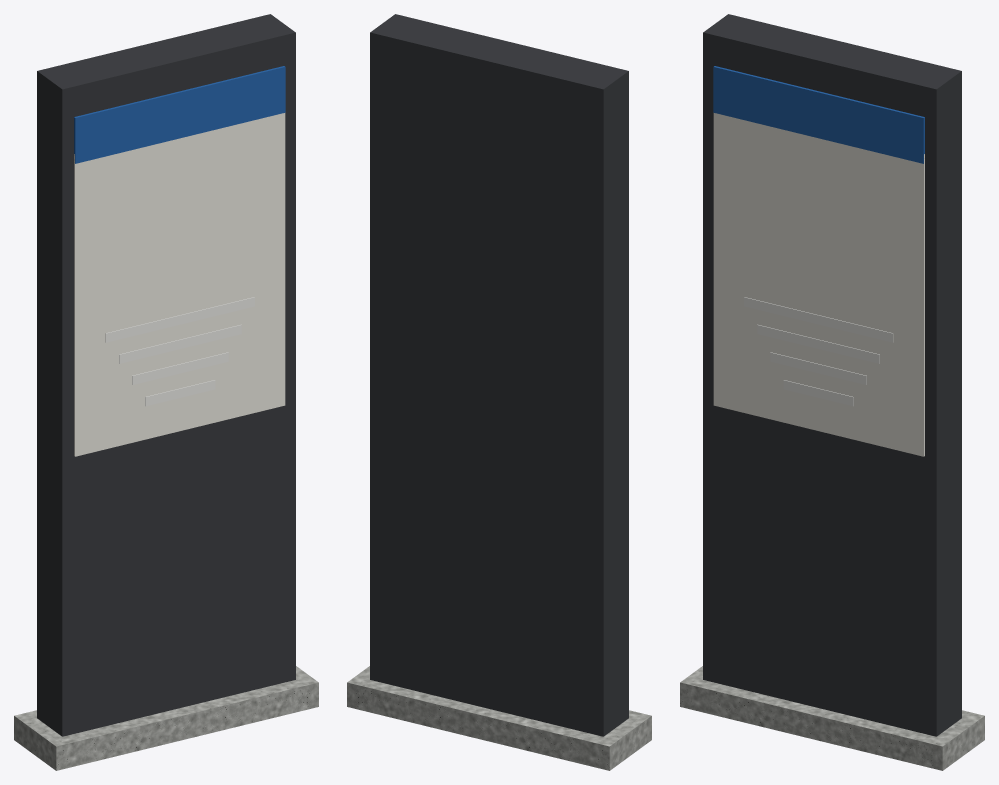
3 renders of one model, left to right at view 1: azimuth 30°, elevation 25°; view 2: azimuth 150°, elevation 25°; view 3: azimuth 330°, elevation 25°, orthographic.
Parts seen in each view (by area): view 1: baseOffset=0;depth=0.15;height=2.2;material=sign_plate;power (×5); view 2: baseOffset=0;depth=0.15;height=2.2;material=sign_plate;power (×2); view 3: baseOffset=0;depth=0.15;height=2.2;material=sign_plate;power (×5).
Boxes of the visible parts, x1=… form: baseOffset=0;depth=0.15;height=2.2;material=sign_plate;power (×5): x1=14, y1=14, x2=318, y2=770; baseOffset=0;depth=0.15;height=2.2;material=sign_plate;power (×2): x1=347, y1=14, x2=651, y2=770; baseOffset=0;depth=0.15;height=2.2;material=sign_plate;power (×5): x1=680, y1=14, x2=984, y2=770.
Size of the model in its own units: 0.9 by 0.25 by 2.2.
5 materials, 1 textured.
